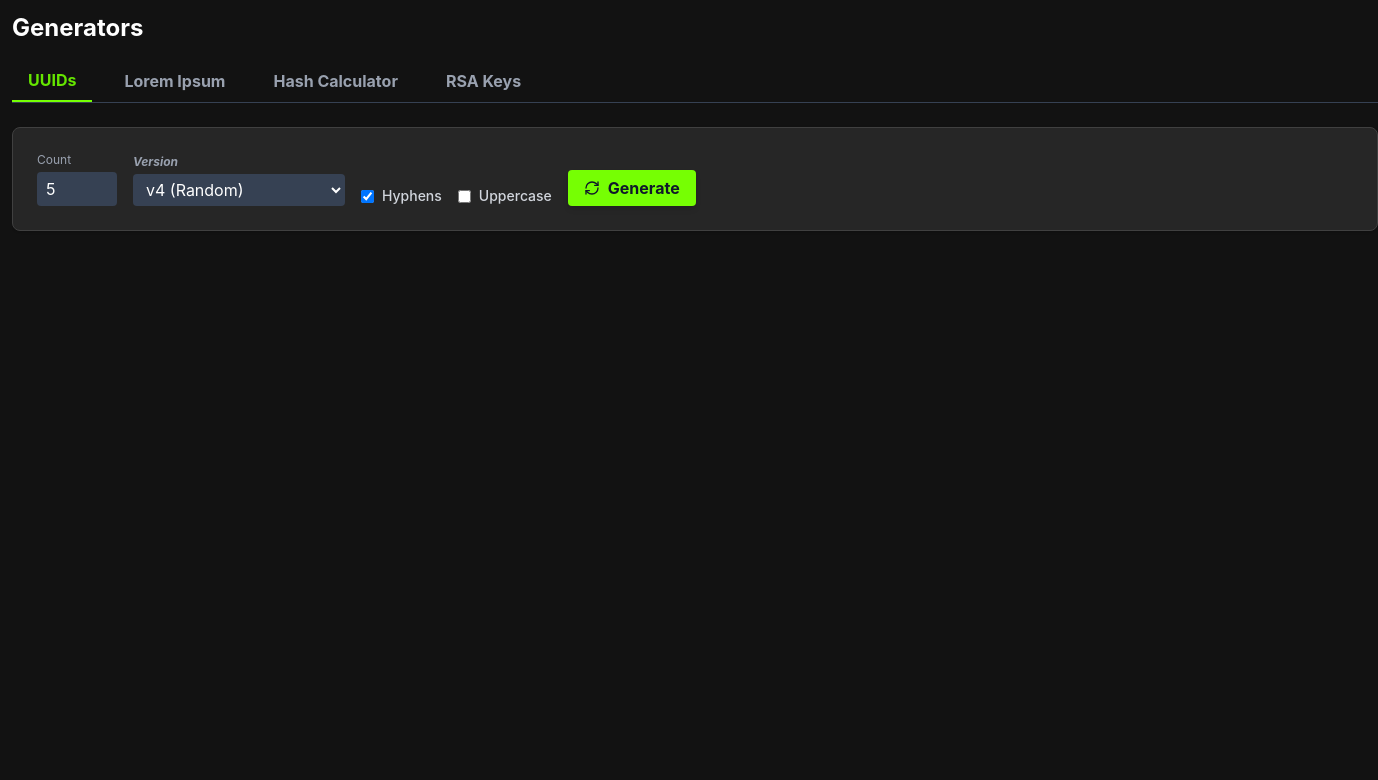
GeneratorTool › handles Hash calculation
// Switch to Hash tab
Click the button "Hash Calculator" at (336, 85), box [258,68,414,102]
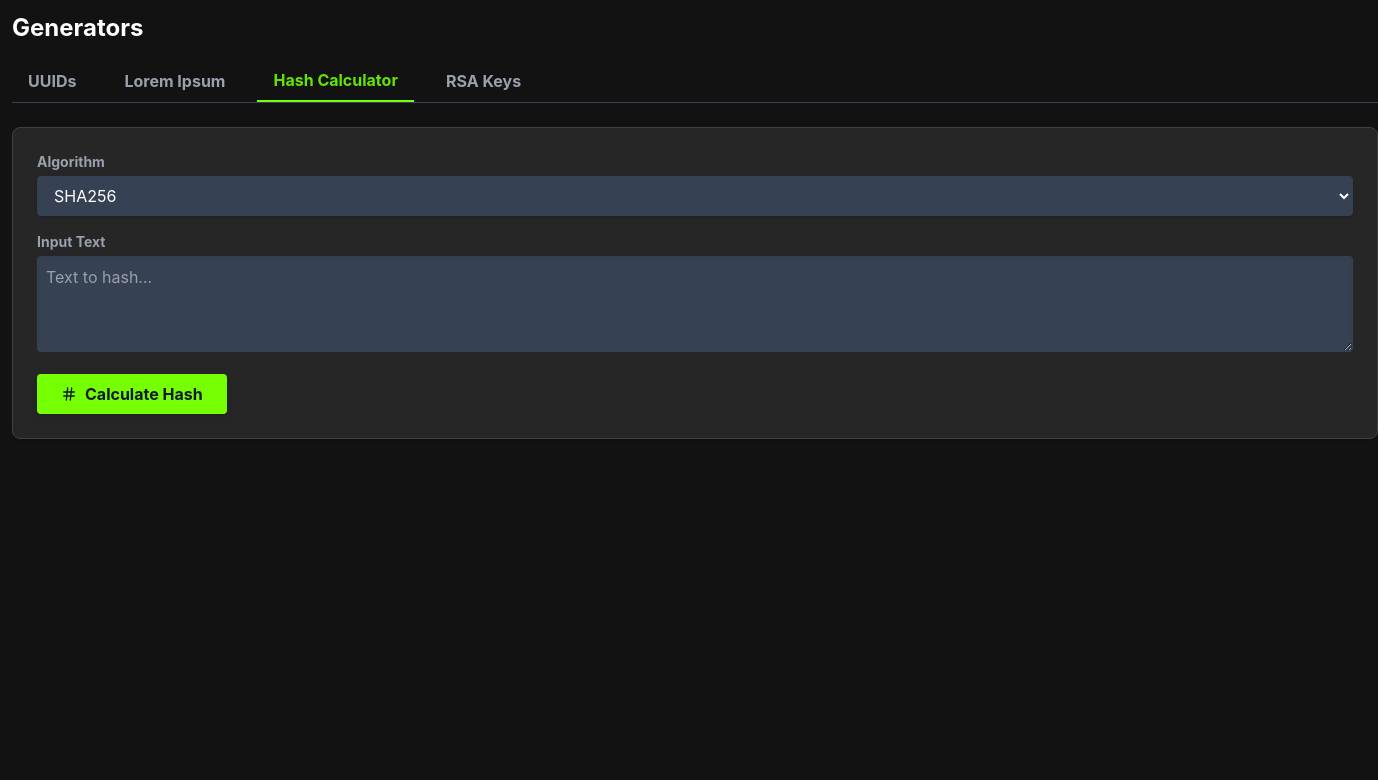
Type "test" into the text box with placeholder "Text to hash..." at (695, 304), box [37,256,1353,352]
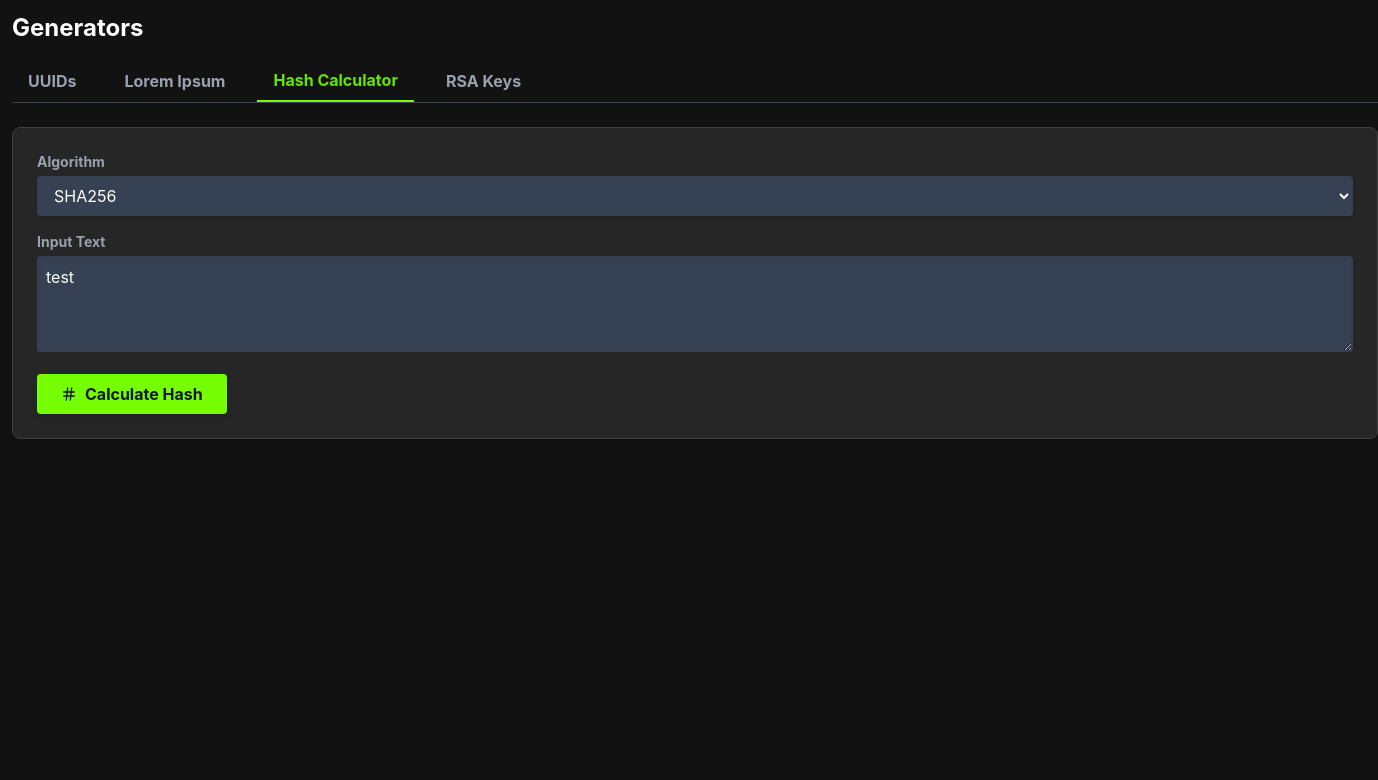
// Find precise button from output: "Calculate Hash"
Click the button "Calculate Hash" at (132, 394), box [37,374,227,414]
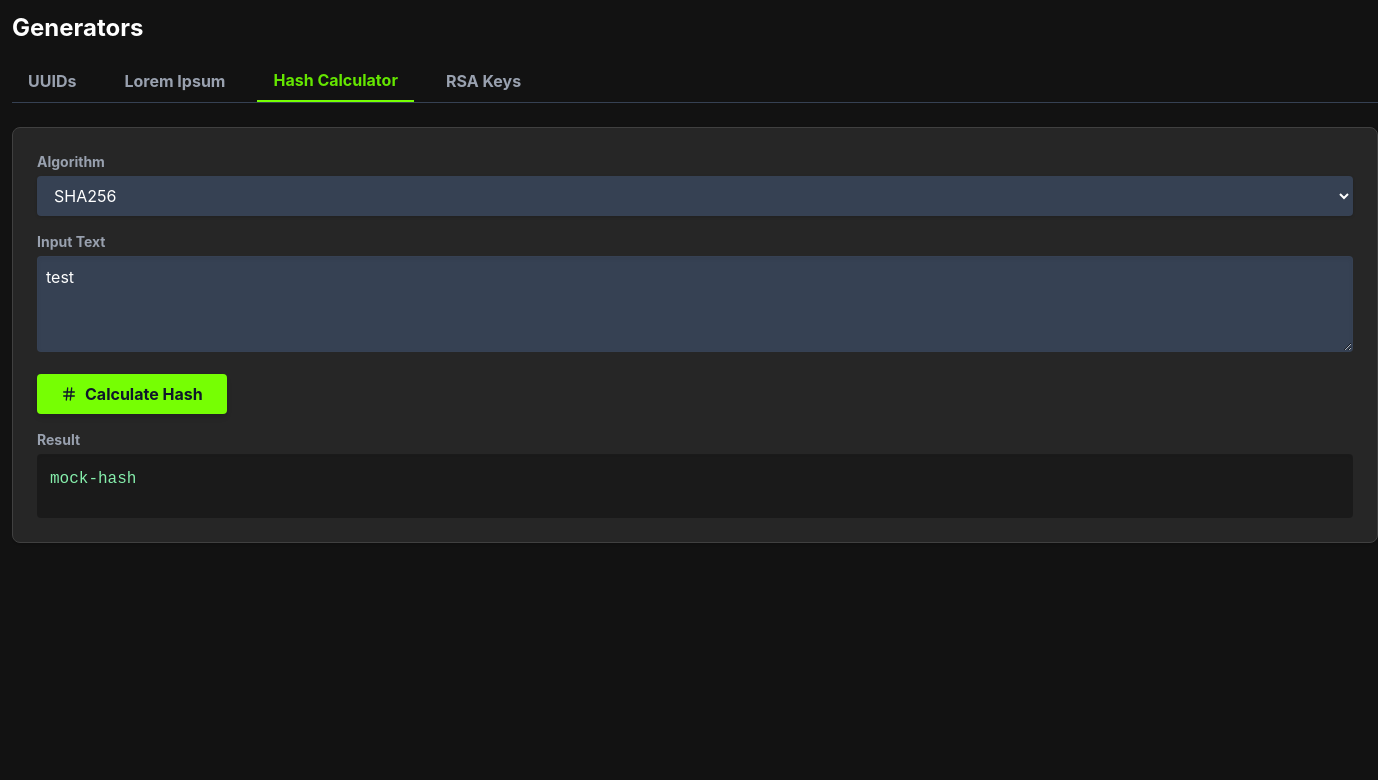
Now the text "mock-hash" is shown, box [37,454,1353,518]
